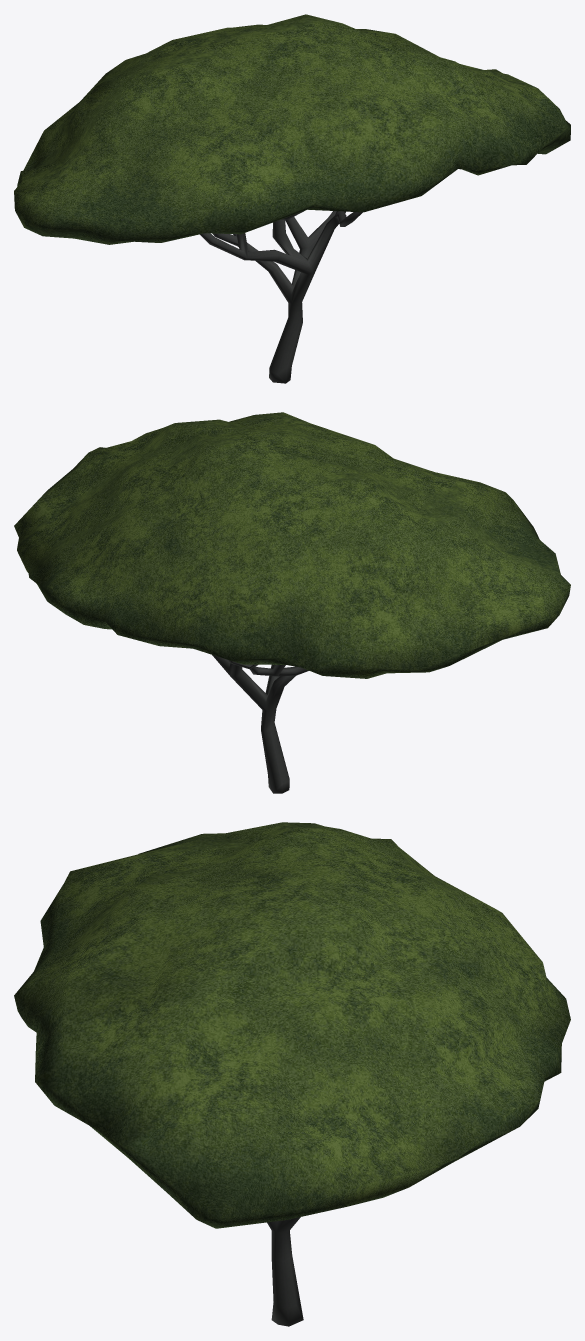
The model's file is tree-thorn-GB.fbx.
3 renders of one model, top to bottom at view 1: azimuth 30°, elevation 25°; view 2: azimuth 150°, elevation 25°; view 3: azimuth 270°, elevation 25°, orthographic. The views are drawn at different scales.
Visible parts, largest first — view 1: ThornTree_Mesh; view 2: ThornTree_Mesh; view 3: ThornTree_Mesh.
Part boxes in pixels (left/top/right/bottom): ThornTree_Mesh: left=14, top=14, right=570, bottom=383; ThornTree_Mesh: left=14, top=412, right=570, bottom=793; ThornTree_Mesh: left=14, top=822, right=570, bottom=1326.
Bounding box in the file's own units: 1024 × 626 × 710.
Materials: 1 (1 with a texture image).
